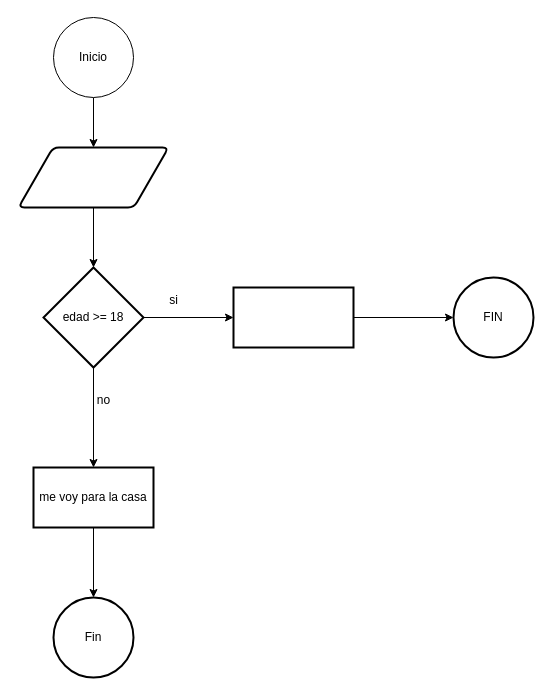
This 551x696 diagram has some shape labels left out. Each missing label, with the centre of its shape:
"Beber chelita" goes at (x=293, y=317).
"Obtener edad" goes at (x=93, y=177).
